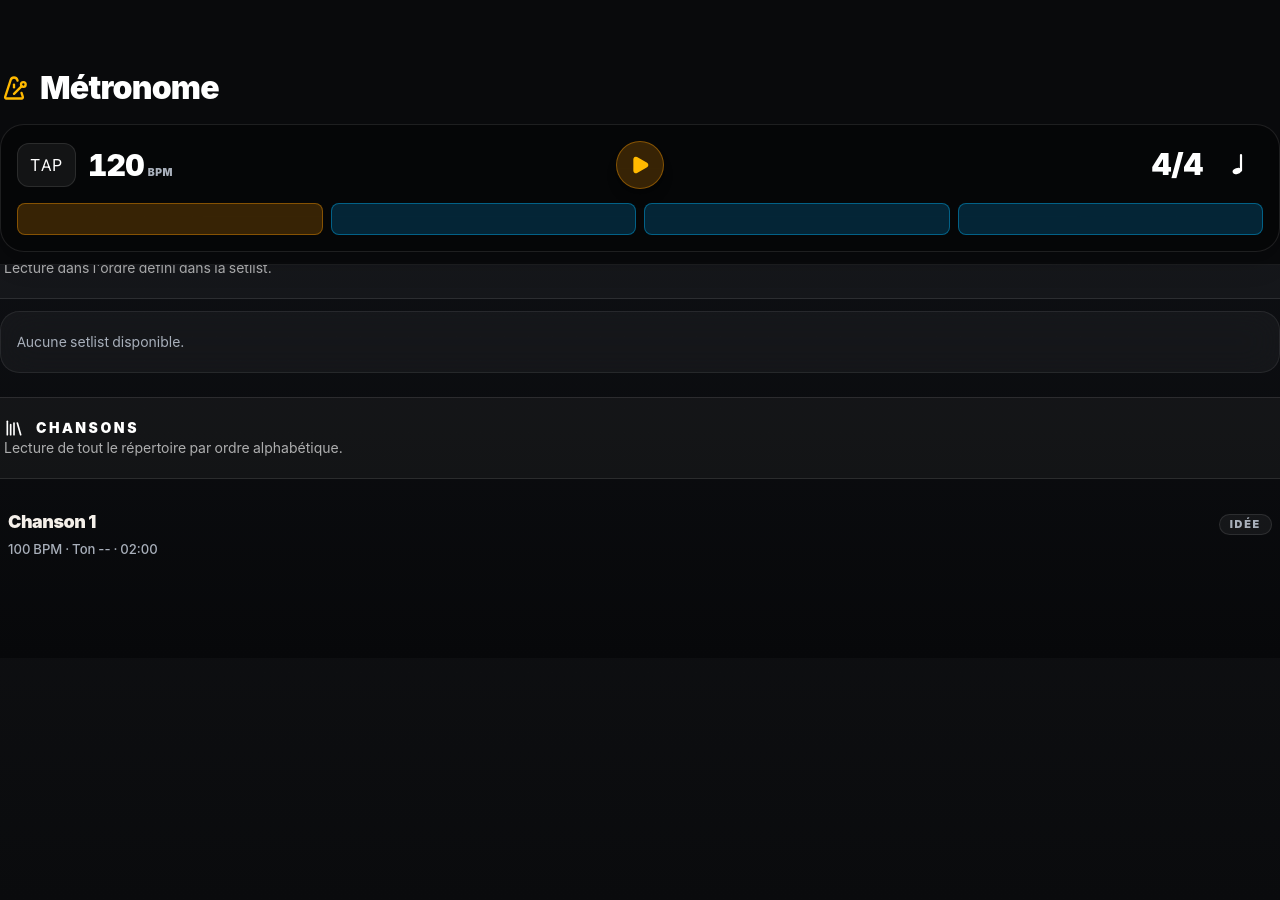
Scenario: MetronomePage - Pickers Valider & Annuler › applique la modification du tempo lorsqu'on clique sur Valider
Click the button "120 BPM" at [130, 165], box left=84, top=146, right=177, bottom=184
(page scrolled)
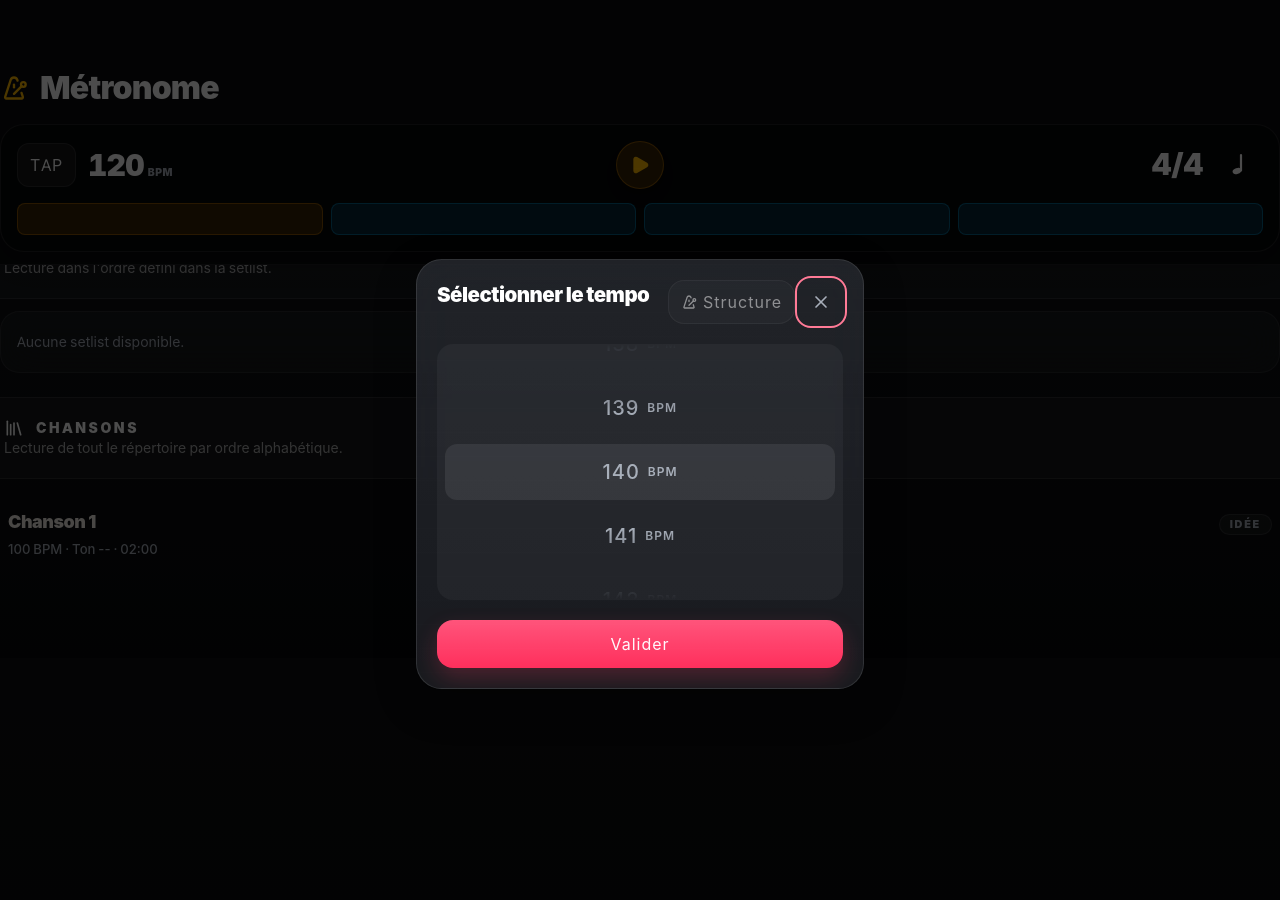
Result: the dialog "Sélectionner le tempo" is shown at left=416, top=259, right=864, bottom=689
Click the button "140 BPM" at [640, 472], box left=437, top=440, right=843, bottom=504
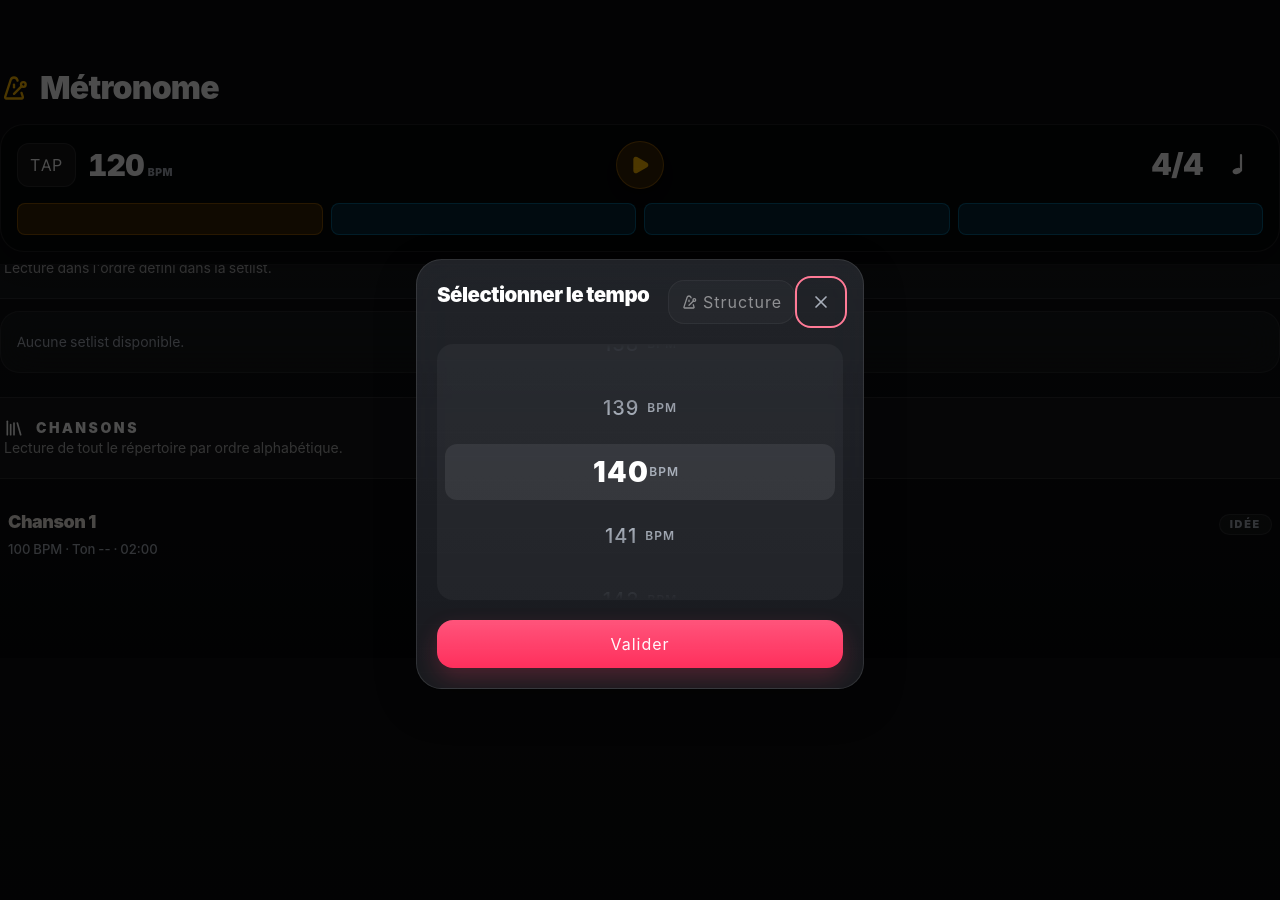
Click the button "Valider" at [640, 644], box left=437, top=620, right=843, bottom=668
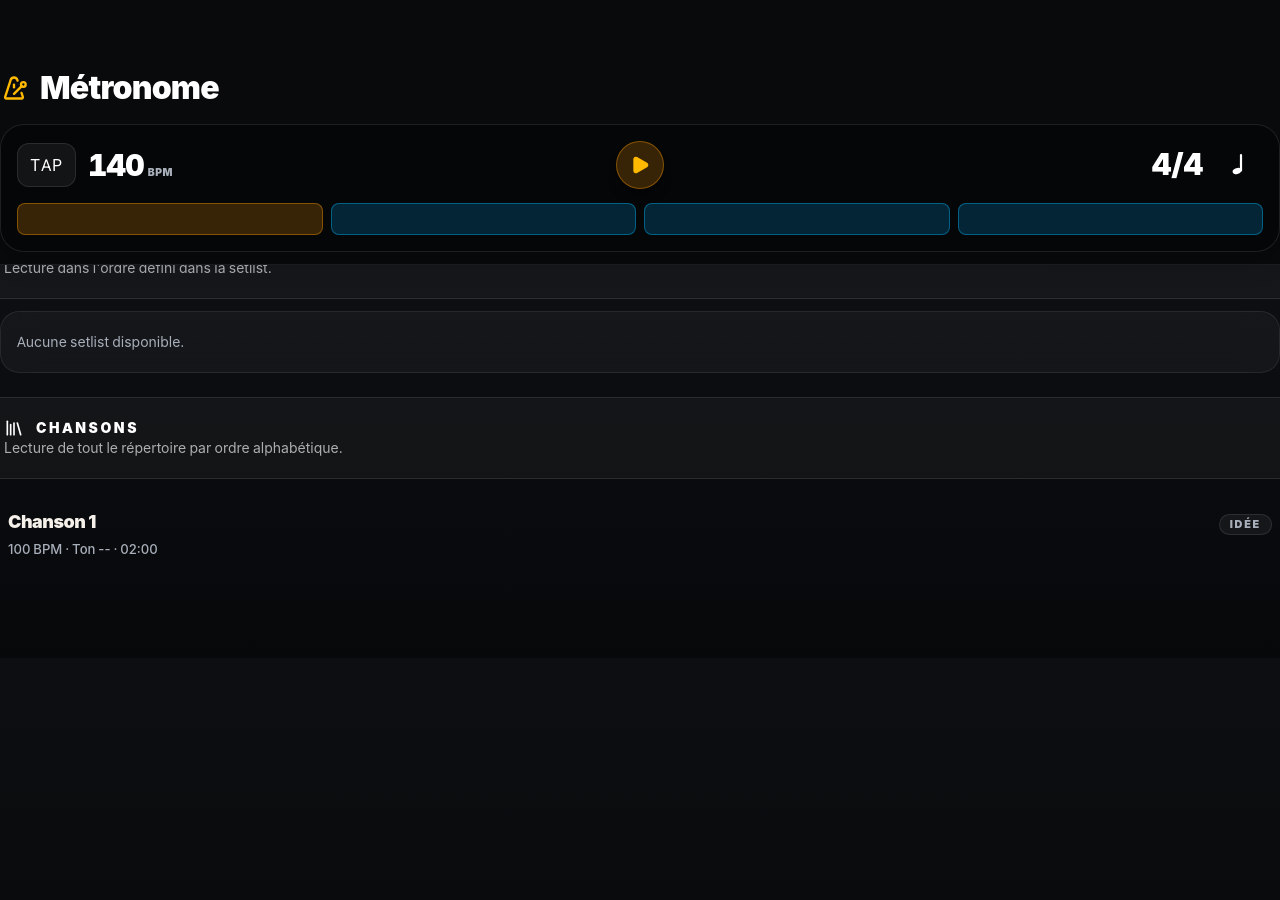
Result: the heading "Sélectionner le tempo" is gone
Result: the button "140 BPM" is shown at left=84, top=146, right=177, bottom=184
